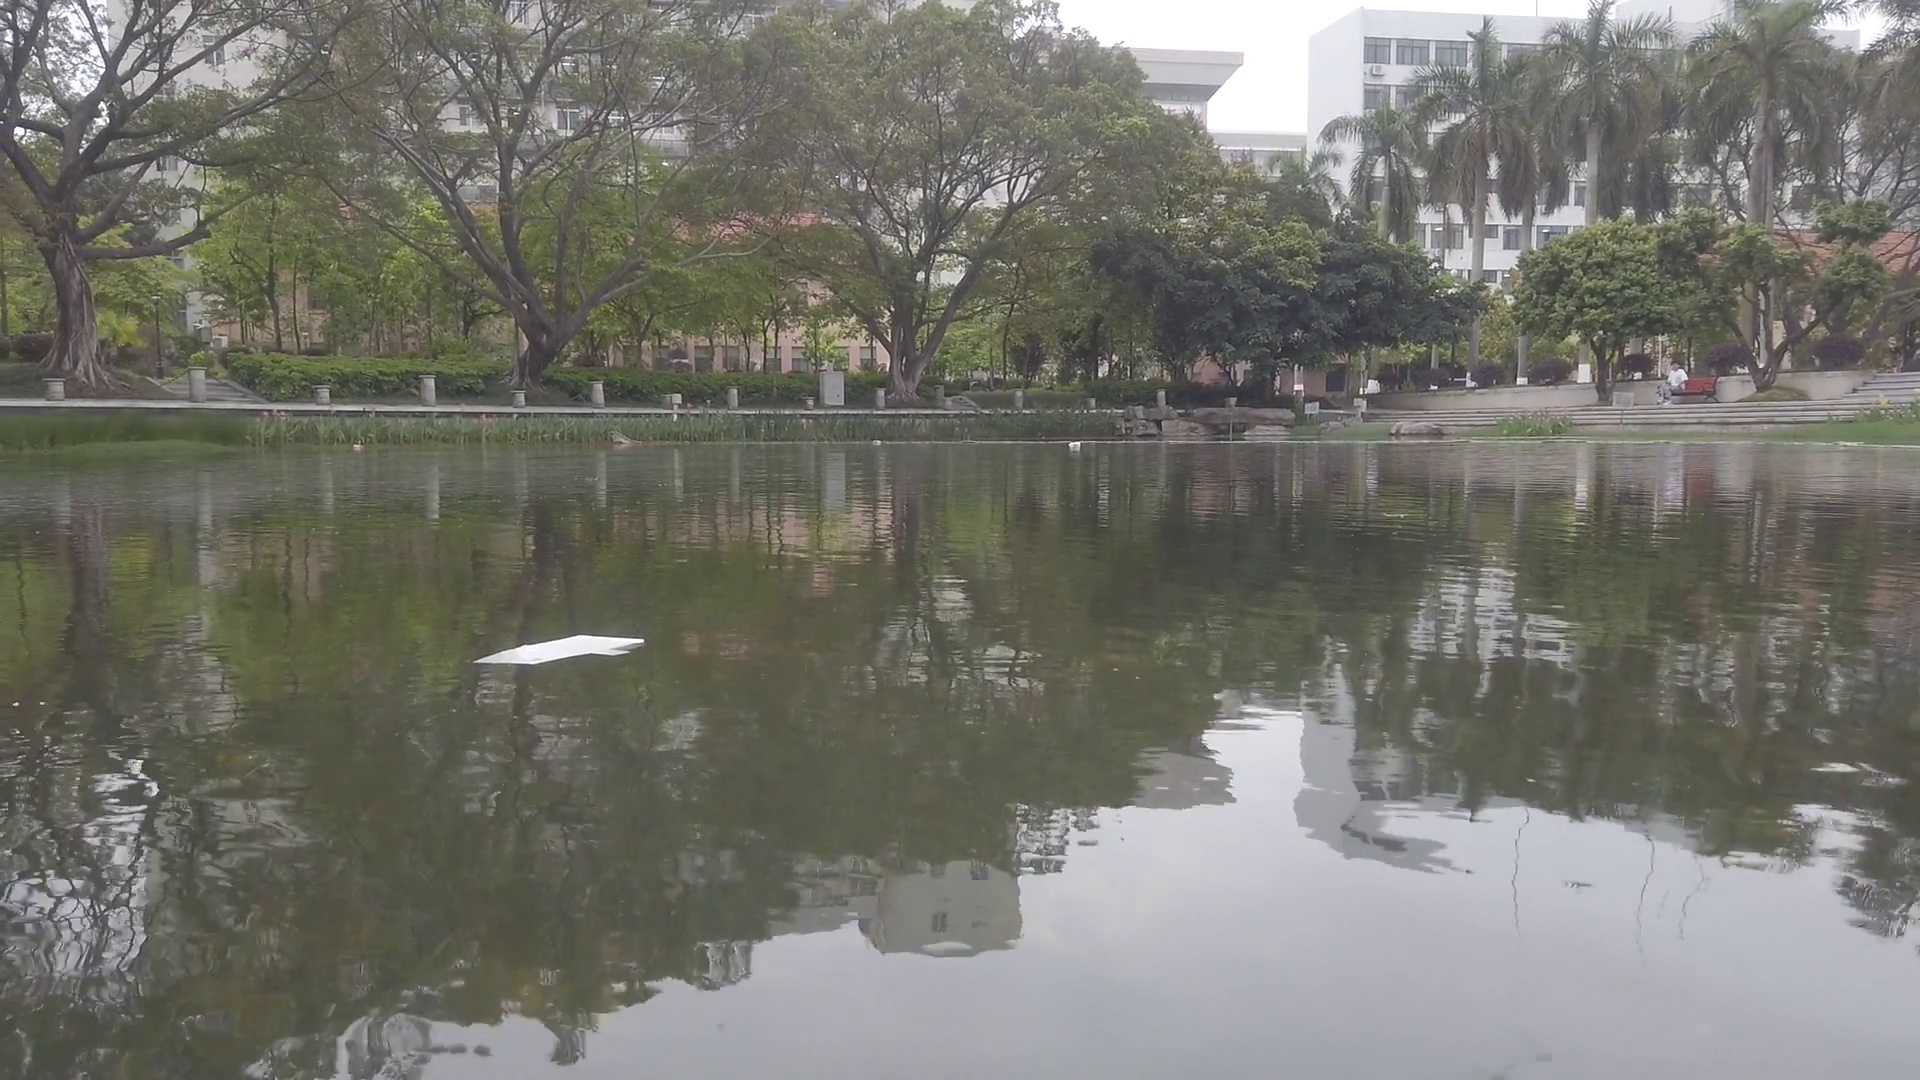bottle: (349, 440, 367, 454), (1065, 440, 1083, 447), (872, 438, 881, 446)
paper: (476, 629, 647, 667)
